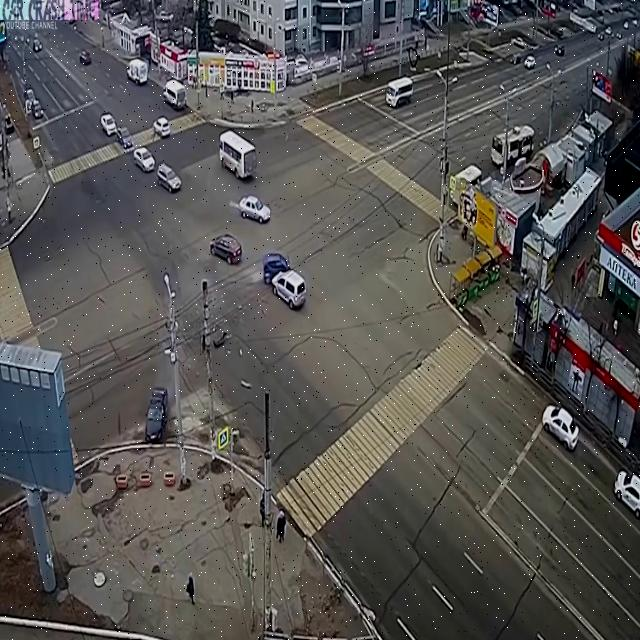accident: (260, 248, 311, 316), (139, 373, 175, 467)
